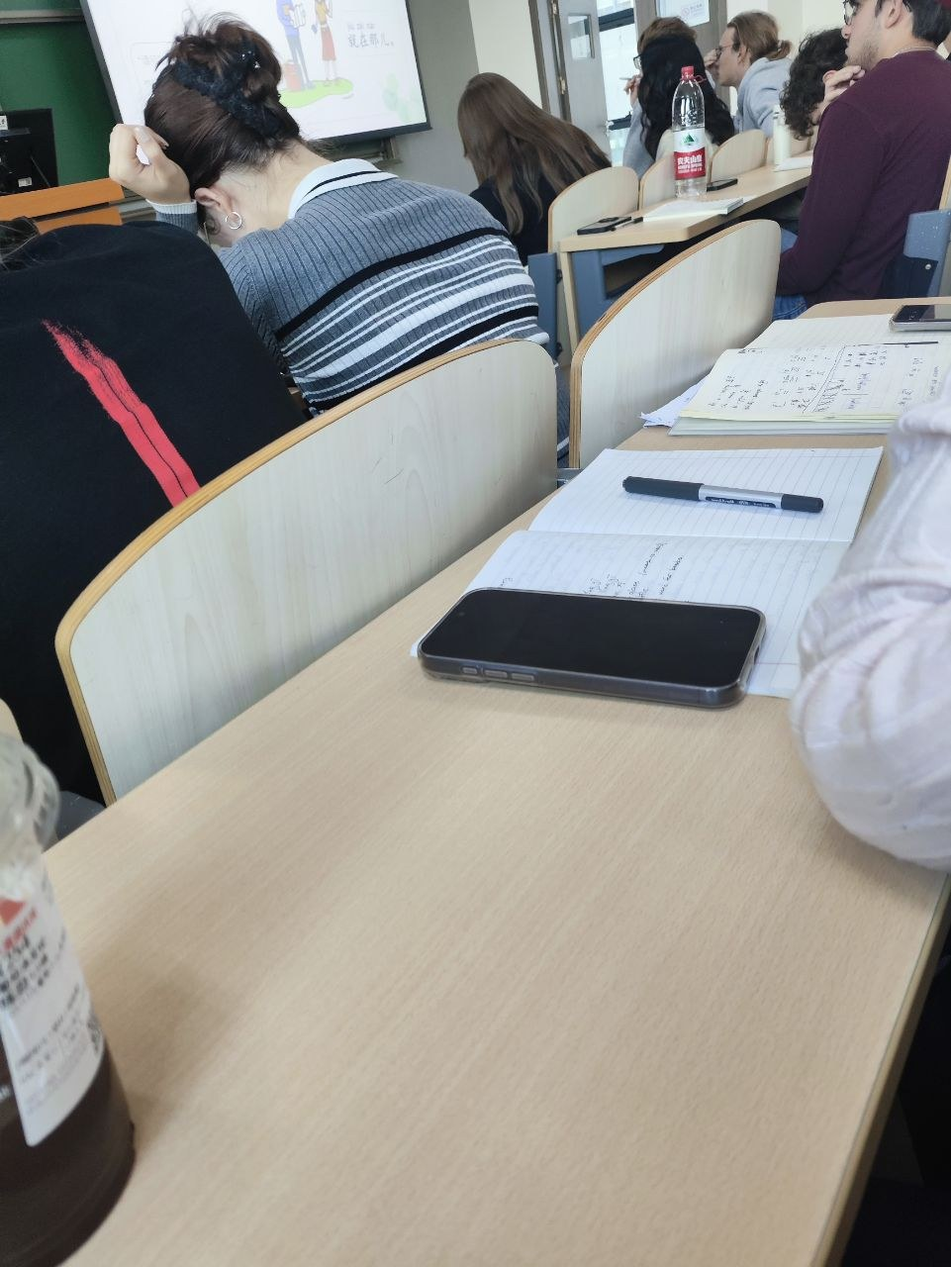cell phone: (416, 586, 767, 708), (890, 302, 951, 332), (577, 215, 632, 233), (706, 179, 738, 191)
